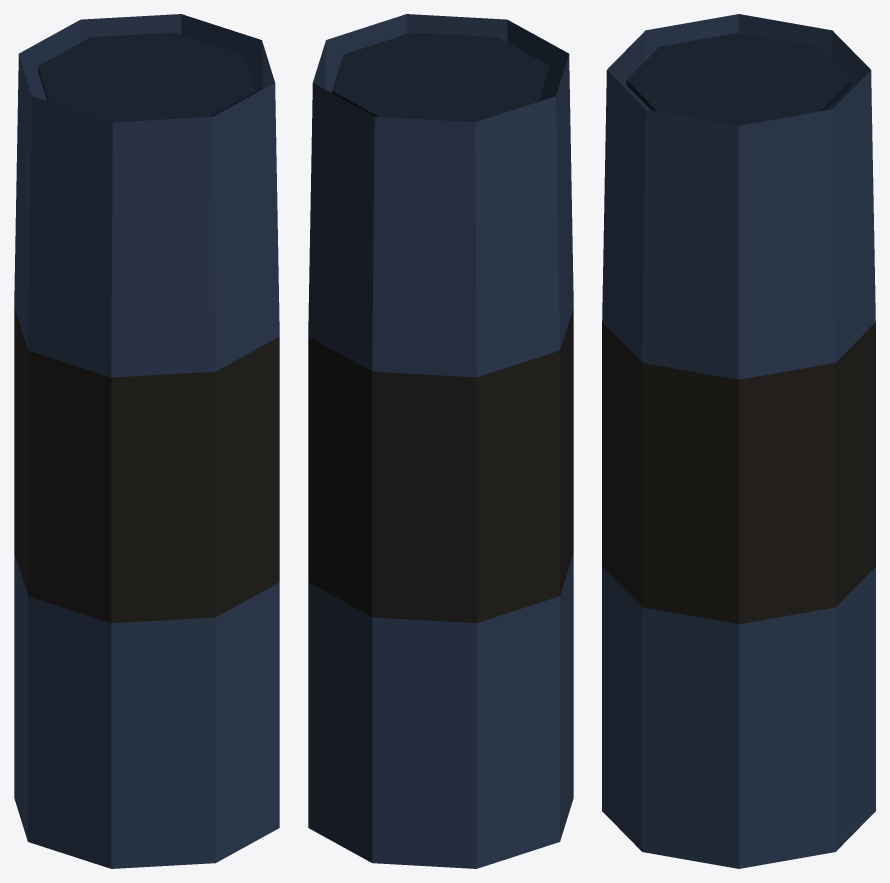
File: vase-43.glb
The picture shows the model from 3 angles, left to right: view 1: azimuth 30°, elevation 25°; view 2: azimuth 150°, elevation 25°; view 3: azimuth 270°, elevation 25°; orthographic projection.
Visible parts, largest first — view 1: vase_43; view 2: vase_43; view 3: vase_43.
Boxes of the visible parts, bbox=[...] form: vase_43: bbox=[14, 14, 279, 868]; vase_43: bbox=[308, 14, 573, 868]; vase_43: bbox=[602, 14, 875, 868].
Bounding box in the file's own units: 0.1926 × 0.5757 × 0.1926.
